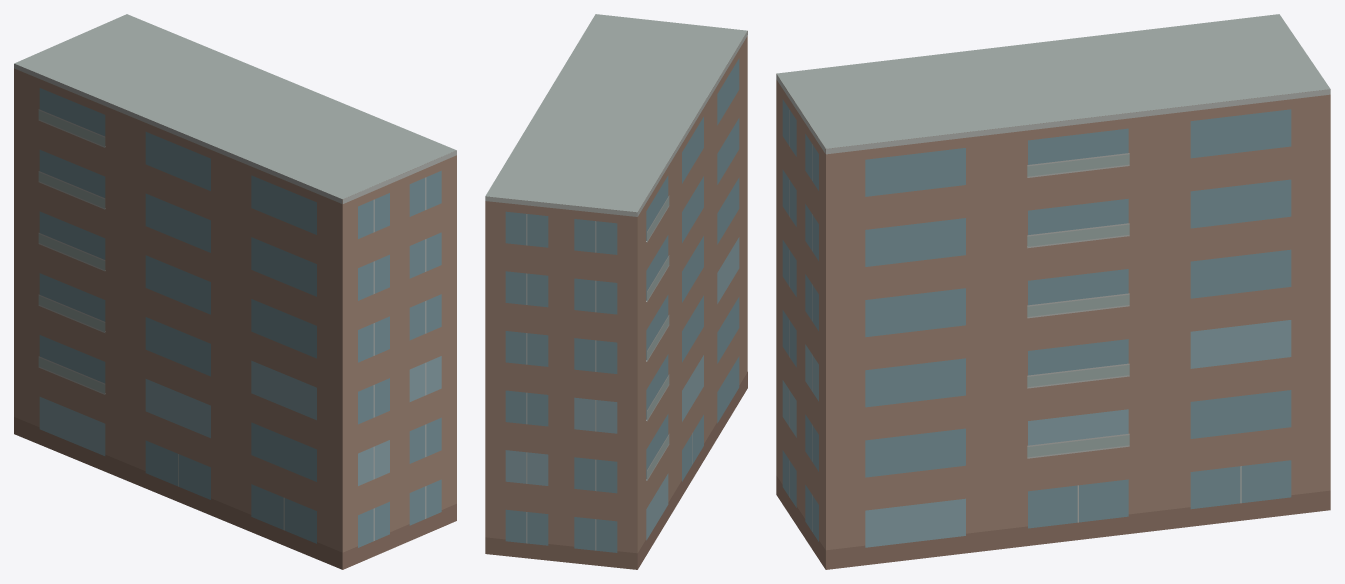
Rendered from survey-upis-33017522.glb.
3 views of the same model, side by side, from view 1: azimuth 30°, elevation 25°; view 2: azimuth 150°, elevation 25°; view 3: azimuth 270°, elevation 25° (orthographic). The views are drawn at different scales.
Parts seen in each view (by area): view 1: survey-upis-33017522.tmp; view 2: survey-upis-33017522.tmp; view 3: survey-upis-33017522.tmp.
Boxes of the visible parts, left/top/right/bottom form: survey-upis-33017522.tmp: left=14, top=14, right=456, bottom=569; survey-upis-33017522.tmp: left=485, top=14, right=747, bottom=569; survey-upis-33017522.tmp: left=776, top=14, right=1330, bottom=569.
Bounding box in the file's own units: 12.72 × 18.5 × 22.08.
